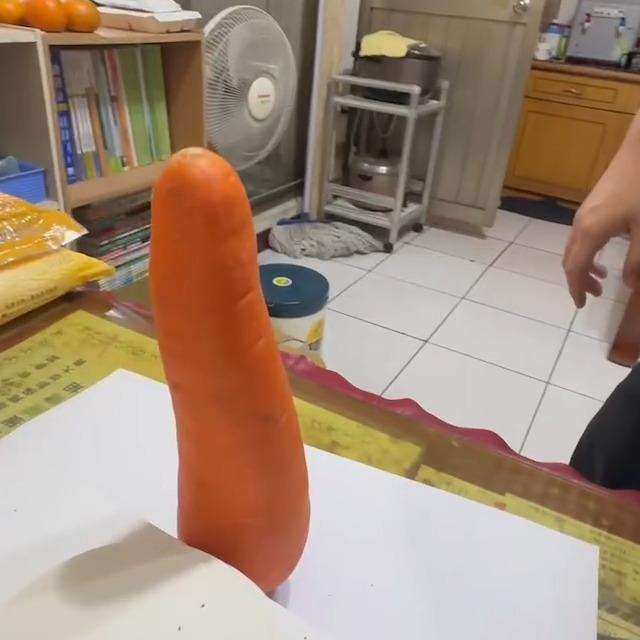carrot: (149, 148, 315, 597)
